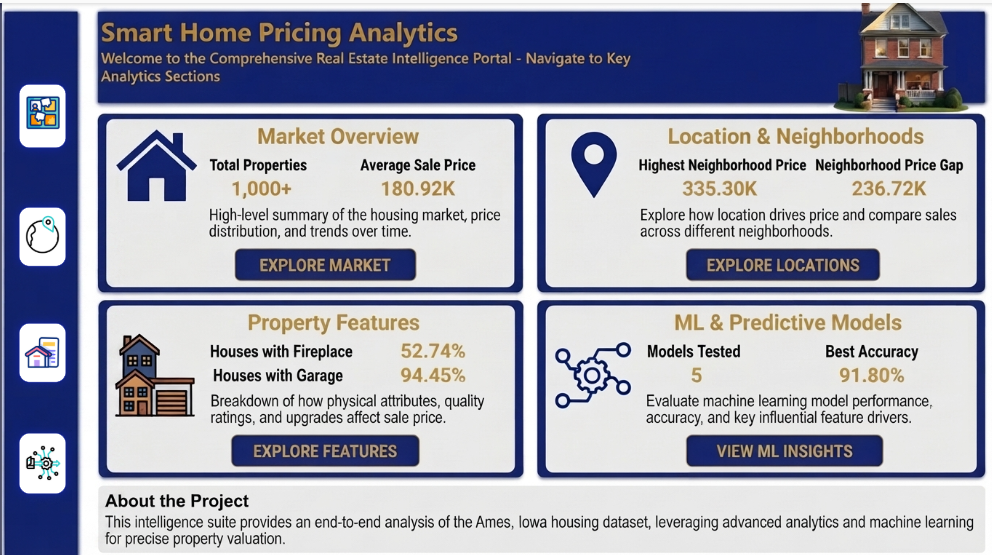

The page's visual inventory and layout, read from the dashboard file:
{"tool":"powerbi","page":{"name":"Home_Page","canvas":[1920,1080],"ordinal":0},"visuals":[{"type":"image","box":[33,832.2,90.7,117.7],"z":0,"group":"g3"},{"type":"shape","box":[178.1,50.3,1728.4,1029.7],"z":1000},{"type":"image","box":[33.3,156.9,90.7,124.2],"z":1000,"group":"g3"},{"type":"textbox","box":[192,64,866,184],"z":2000},{"type":"image","box":[33.3,394.1,90.7,114.8],"z":2000,"group":"g3"},{"type":"image","box":[33.1,619.5,90.7,114.8],"z":2000,"group":"g2"},{"type":"shape","box":[0,50,158,1030],"z":3000},{"type":"group","id":"g1","title":"Group 1","box":[207.1,394.8,1672.3,685.2],"z":4000},{"type":"image","box":[1412.9,0,508,360],"z":5000},{"type":"group","id":"g2","title":"Group 2","box":[33,156.9,91,793],"z":6000},{"type":"shape","box":[207.1,394.8,360.2,685.2],"z":7000,"group":"g1"},{"type":"textbox","box":[222.6,586.5,325.2,303.9],"z":7000},{"type":"shape","box":[653,394.8,360.2,685.2],"z":8000,"group":"g1"},{"type":"textbox","box":[677.4,586.5,301.9,338.7],"z":8000},{"type":"shape","box":[1093.3,394.8,360.2,685.2],"z":9000,"group":"g1"},{"type":"textbox","box":[1128.4,586.5,284.5,267.1],"z":9000},{"type":"shape","box":[1519.2,394.8,360.2,685.2],"z":10000,"group":"g1"},{"type":"textbox","box":[1556.1,586.5,290.3,338.7],"z":10000},{"type":"image","box":[336.8,493.5,98.7,71.6],"z":11000},{"type":"group","id":"g3","title":"Group 1","box":[33,156.9,91,793],"z":12000,"group":"g2"},{"type":"image","box":[770.3,493.5,116.1,71.6],"z":12000},{"type":"image","box":[1213.5,493.5,116.1,71.6],"z":13000},{"type":"image","box":[1666.5,493.5,116.1,71.6],"z":14000}]}

Visuals, with their boxes in screenshot pixels (x1, y1, x2, y2), scaled from the page's 1920x1080 canvas onto the 992x555 screenshot:
image: 17,428,64,488
shape: 92,26,985,554
image: 17,81,64,144
textbox: 99,33,547,127
image: 17,203,64,262
image: 17,318,64,377
shape: 0,26,82,554
"Group 1" group: 107,203,971,554
image: 730,0,991,185
"Group 2" group: 17,81,64,488
shape: 107,203,293,554
textbox: 115,301,283,458
shape: 337,203,523,554
textbox: 350,301,506,475
shape: 565,203,751,554
textbox: 583,301,730,439
shape: 785,203,971,554
textbox: 804,301,954,475
image: 174,254,225,290
"Group 1" group: 17,81,64,488
image: 398,254,458,290
image: 627,254,687,290
image: 861,254,921,290
